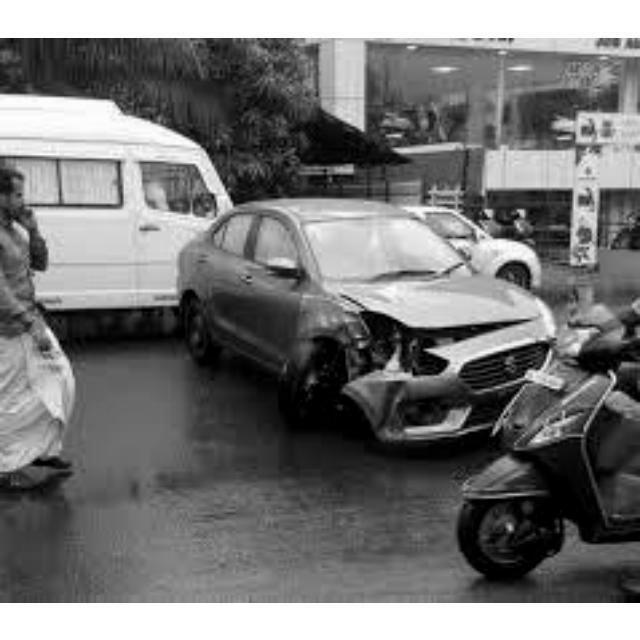front-bumper-dent: (362, 321, 552, 441)
